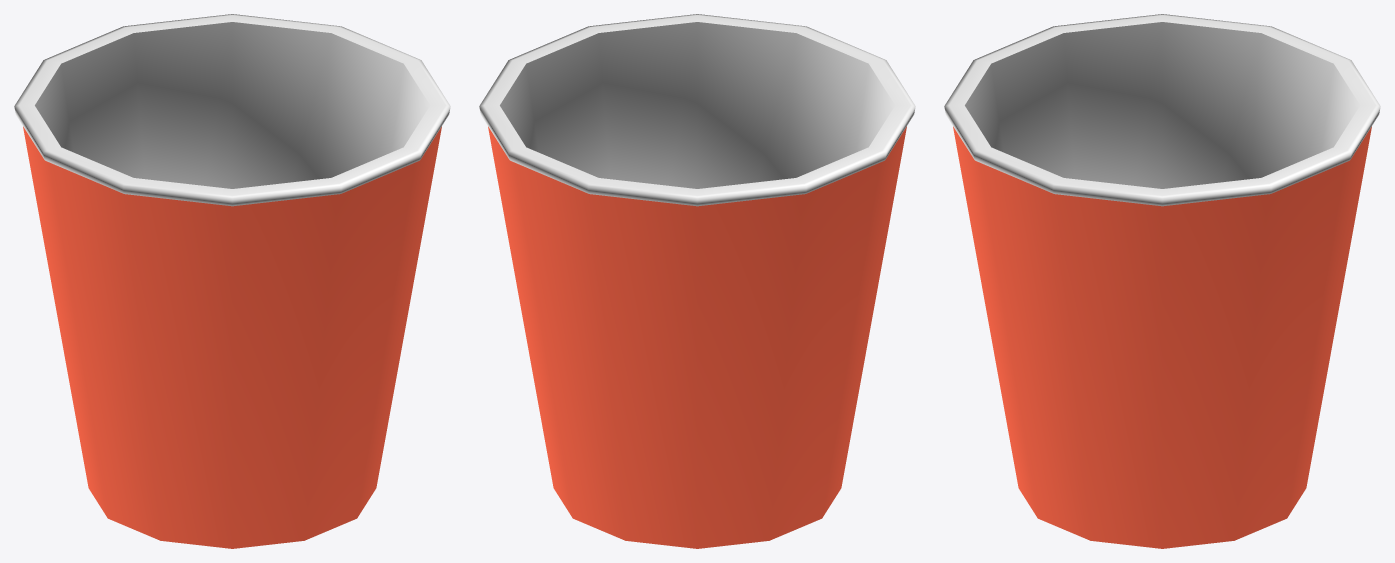
Rendered from cup.fbx.
3 renders of one model, left to right at view 1: azimuth 30°, elevation 25°; view 2: azimuth 150°, elevation 25°; view 3: azimuth 270°, elevation 25°, orthographic.
Visible parts, largest first — view 1: Cylinder; view 2: Cylinder; view 3: Cylinder.
Part boxes in pixels (x1,y1,x2,y2): Cylinder: (14,14,450,548); Cylinder: (479,14,915,548); Cylinder: (944,14,1380,548).
Bounding box in the file's own units: 64.52 × 62.42 × 64.52.
Materials: 1 (1 with a texture image).
